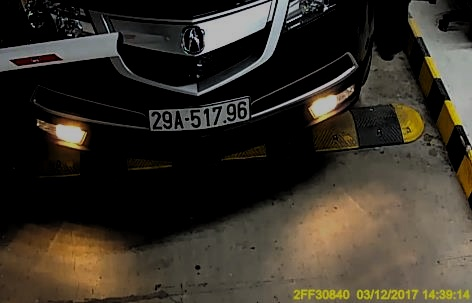plate: (148, 98, 252, 133)
